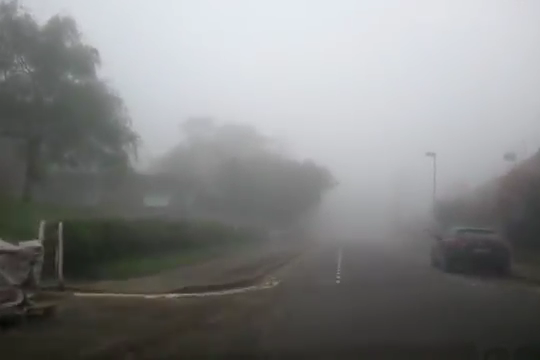car: (427, 222, 511, 278)
